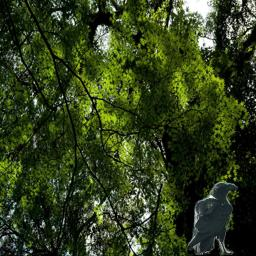Crow: (187, 182, 238, 255)
